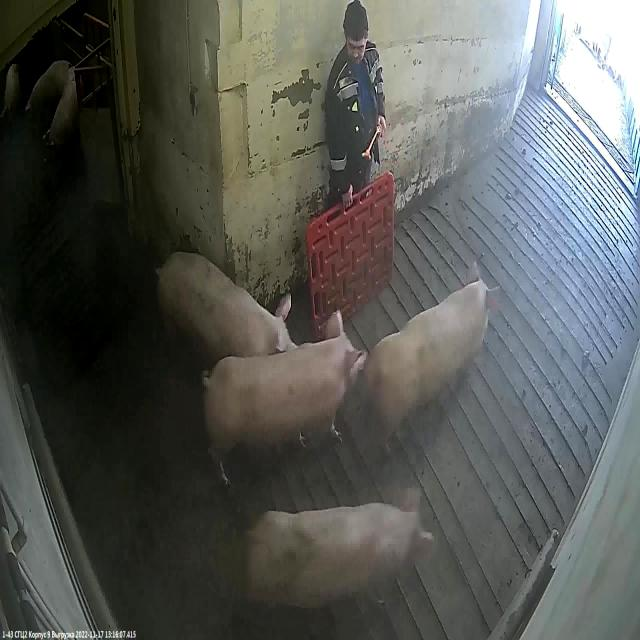pig: (203, 333, 368, 483), (365, 280, 488, 447), (245, 503, 428, 613), (155, 252, 296, 384), (39, 68, 80, 167), (26, 61, 70, 134), (0, 67, 22, 126)
